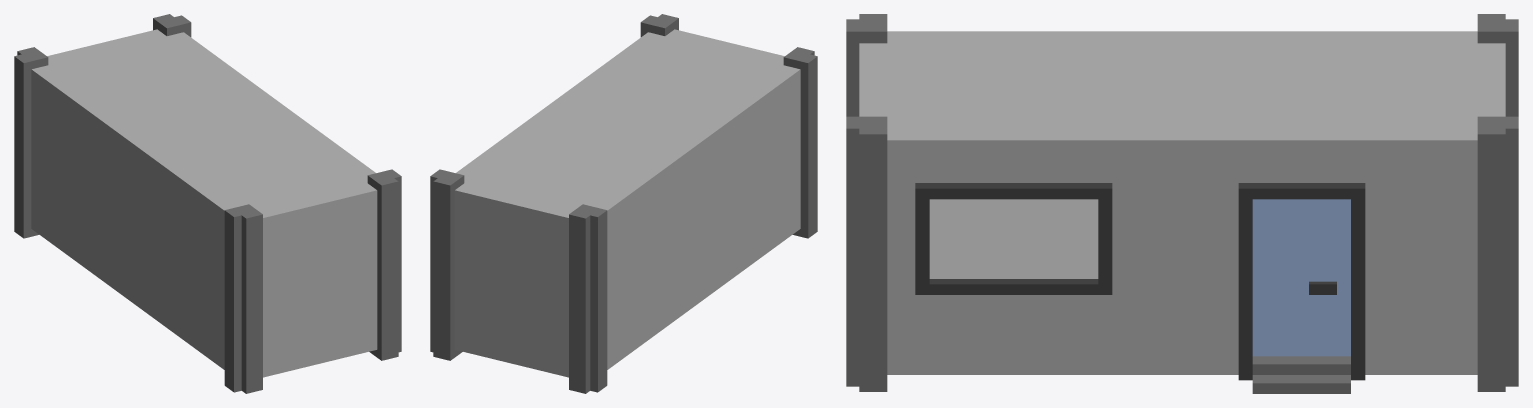
File: OfficeContainer.fbx
3 renders of one model, left to right at view 1: azimuth 30°, elevation 25°; view 2: azimuth 150°, elevation 25°; view 3: azimuth 270°, elevation 25°, orthographic. The views are drawn at different scales.
Visible parts, largest first — view 1: Cube; view 2: Cube; view 3: Cube.
Boxes of the visible parts, x1=… form: Cube: x1=14, y1=14, x2=401, y2=393; Cube: x1=430, y1=14, x2=817, y2=393; Cube: x1=846, y1=14, x2=1518, y2=393.
Size of the model in its own units: 490 by 440 by 1040.
